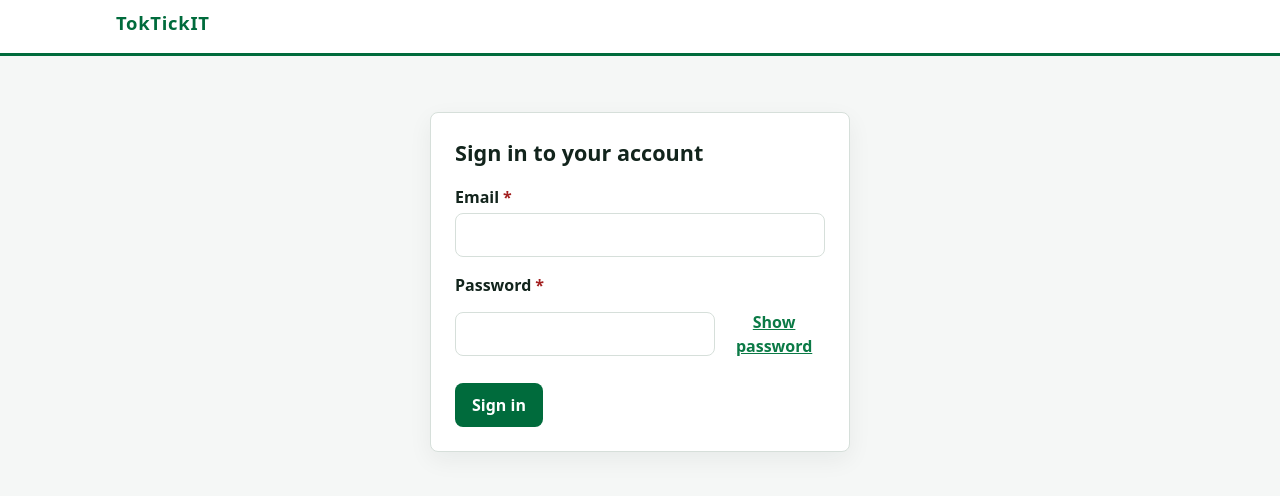
Test case: Login — validation › rejects an address that is not an email before asking the server
Expected: the heading "Sign in to your account" is shown, [455,138,703,167]
Type "nadia.rahman" into the field labelled "Email*" at coordinates (640, 235), box [455,213,825,257]
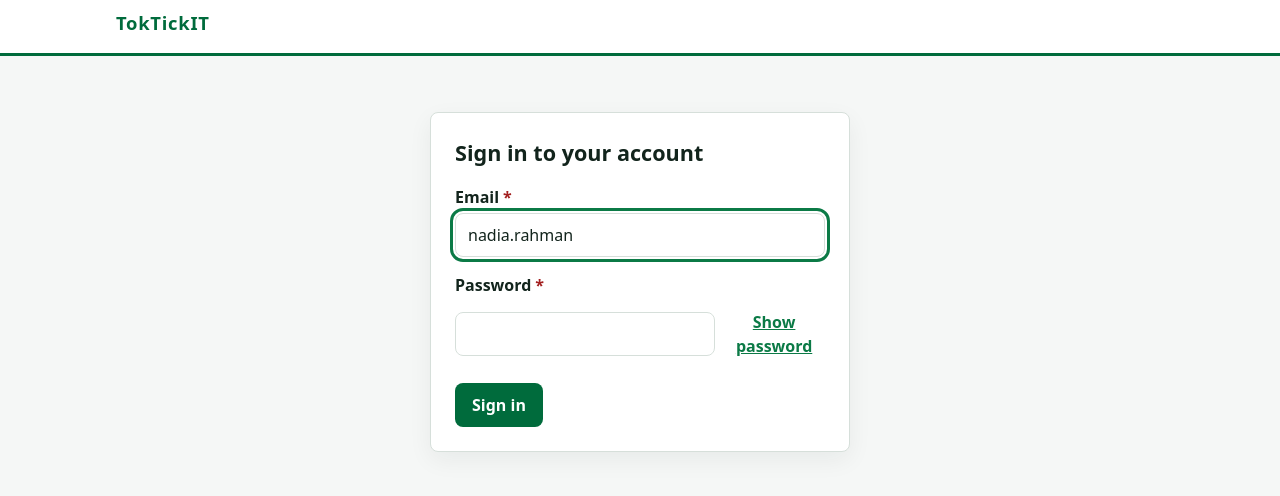
Type "whatever it is" into the password field labelled "Password*" at coordinates (585, 334), box [455,312,715,356]
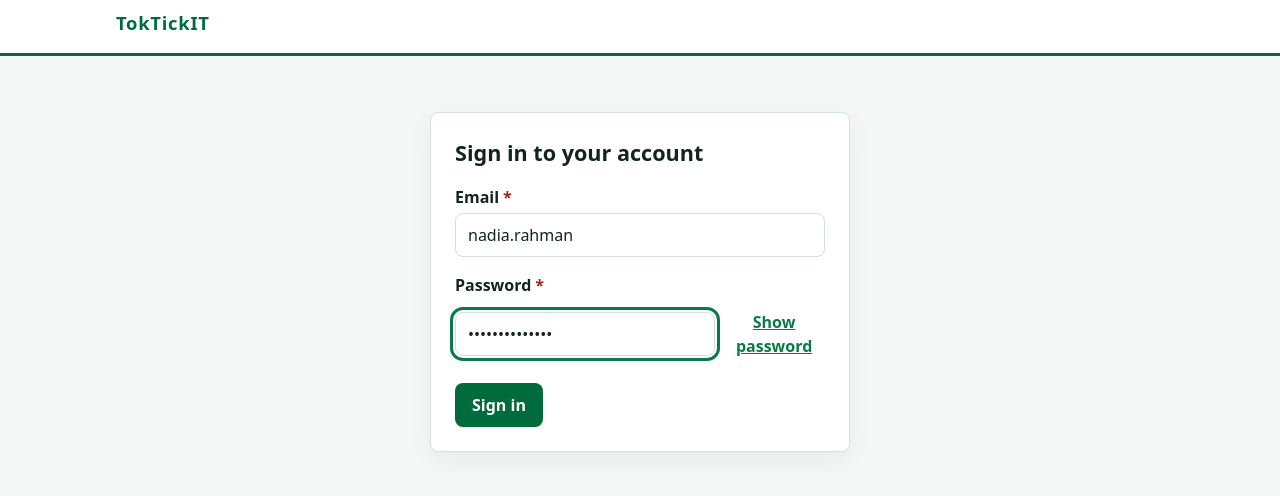
Click the button "Sign in" at coordinates (499, 405), box [455,383,543,427]
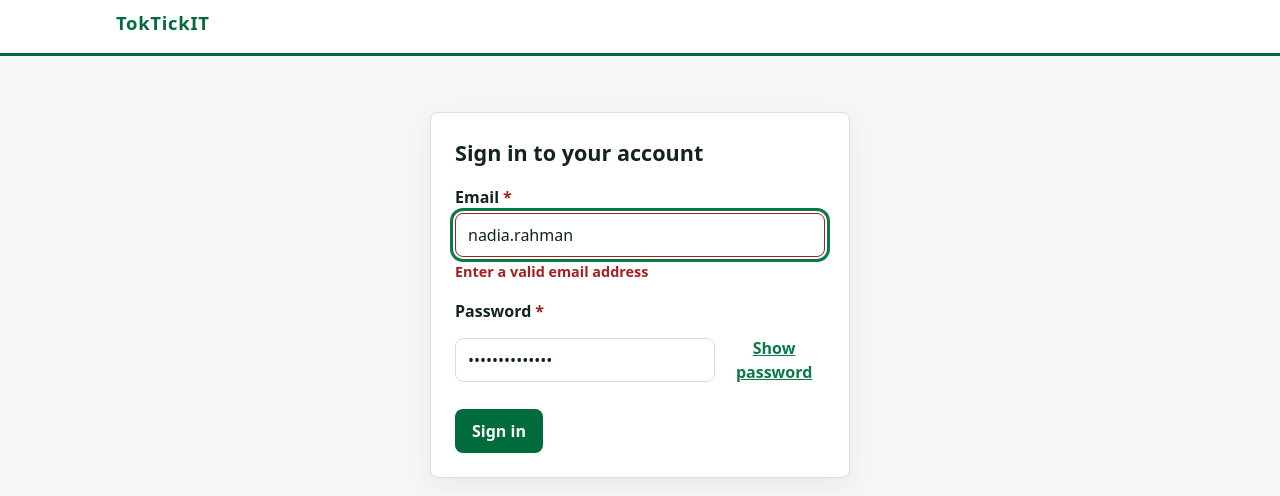
Result: the text "Enter a valid email address" is shown at [455,262,648,281]
